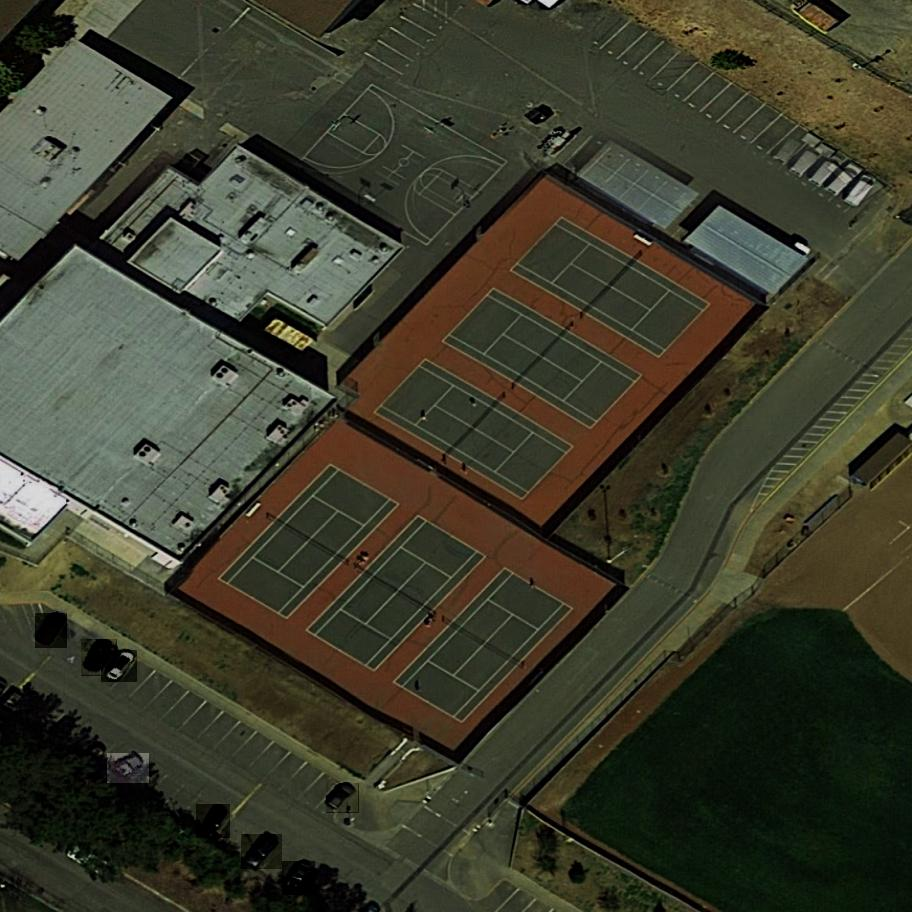small-vehicle: (241, 831, 282, 874), (82, 635, 117, 681), (101, 646, 137, 686), (196, 800, 230, 841), (107, 753, 150, 785), (282, 859, 317, 898), (35, 611, 67, 651), (327, 782, 359, 816)
